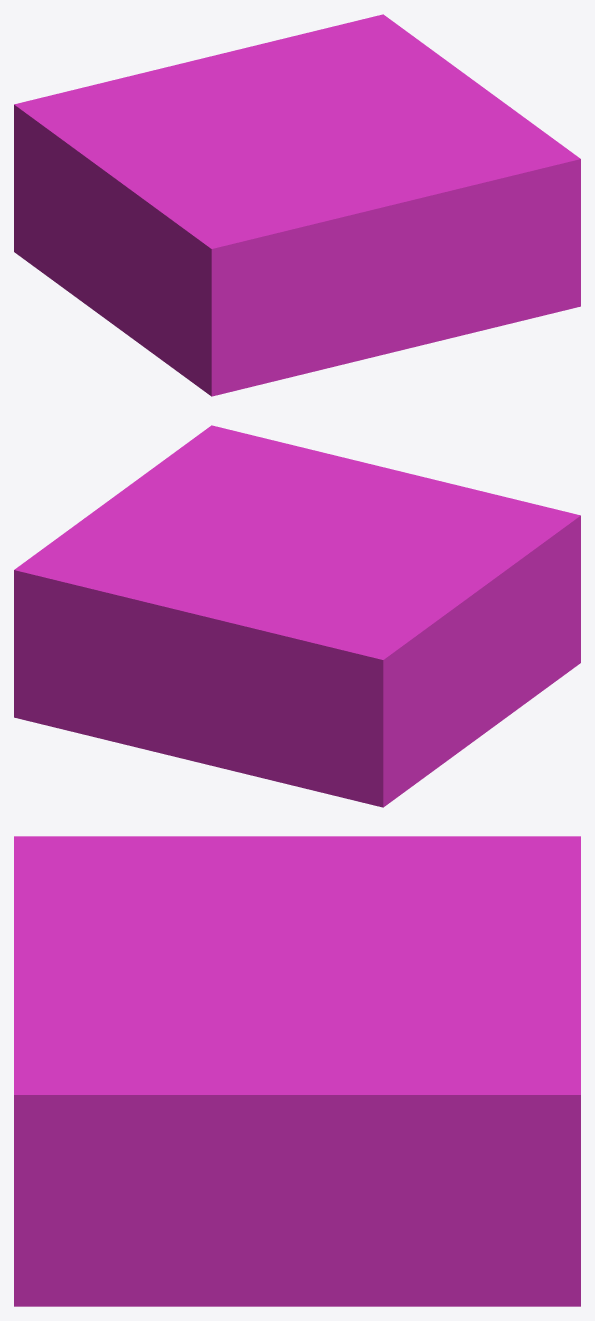
File: puzzle_room_pressureplate.glb
The picture shows the model from 3 angles, top to bottom: view 1: azimuth 30°, elevation 25°; view 2: azimuth 150°, elevation 25°; view 3: azimuth 270°, elevation 25°; orthographic projection. The views are drawn at different scales.
Parts seen in each view (by area): view 1: pressureplate; view 2: pressureplate; view 3: pressureplate.
Part boxes in pixels (<box>): pressureplate: <box>14,14,580,396</box>; pressureplate: <box>14,425,580,807</box>; pressureplate: <box>14,836,580,1306</box>.
Size of the model in its own units: 0.9735 by 0.3716 by 0.9024.
